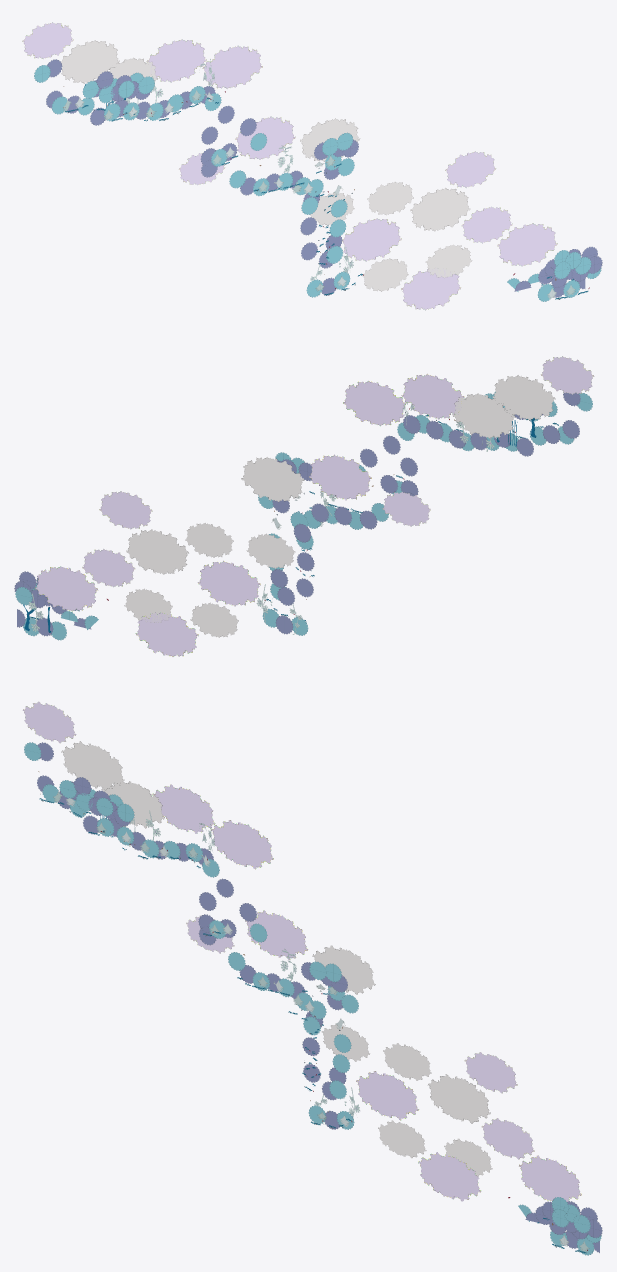
File: flower01_bg.glb
The picture shows the model from 3 angles, top to bottom: view 1: azimuth 30°, elevation 25°; view 2: azimuth 150°, elevation 25°; view 3: azimuth 330°, elevation 25°; orthographic projection. The views are drawn at different scales.
Visible parts, largest first — view 1: flower01_bg; view 2: flower01_bg; view 3: flower01_bg.
Part boxes in pixels (left/top/right/bottom): flower01_bg: left=22, top=22, right=602, bottom=310; flower01_bg: left=14, top=356, right=594, bottom=656; flower01_bg: left=23, top=701, right=602, bottom=1255.
Size of the model in its own units: 3414 by 2253 by 199.
12 materials, 12 textured.
